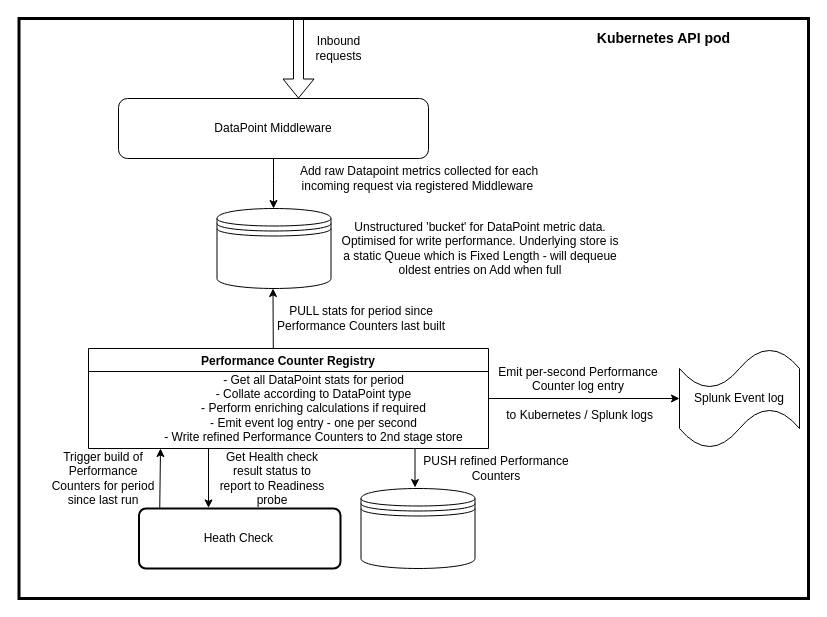
The diagram is 827 pixels wide and 617 high, and some of its shapes have lost their labels. Here are the shapes that lost their labels. From the top down, the centre of each, then its label:
the point at 273,248: Statistics Store
the point at 417,528: Performance Counter Store
